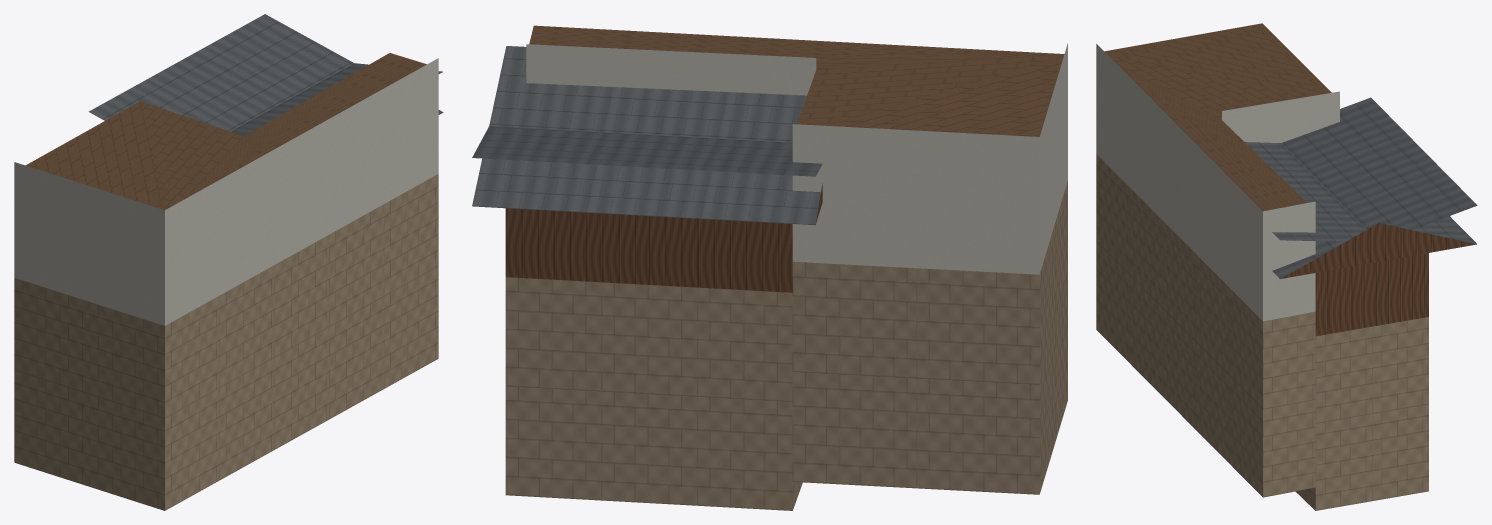
File: bld_c44_48_184.gltf
The picture shows the model from 3 angles, left to right: view 1: azimuth 30°, elevation 25°; view 2: azimuth 150°, elevation 25°; view 3: azimuth 270°, elevation 25°; orthographic projection. The views are drawn at different scales.
Visible parts, largest first — view 1: bld_c44_48_184; view 2: bld_c44_48_184; view 3: bld_c44_48_184.
Boxes of the visible parts, x1,y1,x2,y2 form: bld_c44_48_184: [14, 14, 443, 510]; bld_c44_48_184: [472, 25, 1067, 510]; bld_c44_48_184: [1096, 23, 1477, 510].
Bounding box in the file's own units: 11.27 × 7.98 × 8.91.
7 materials, 7 textured.
